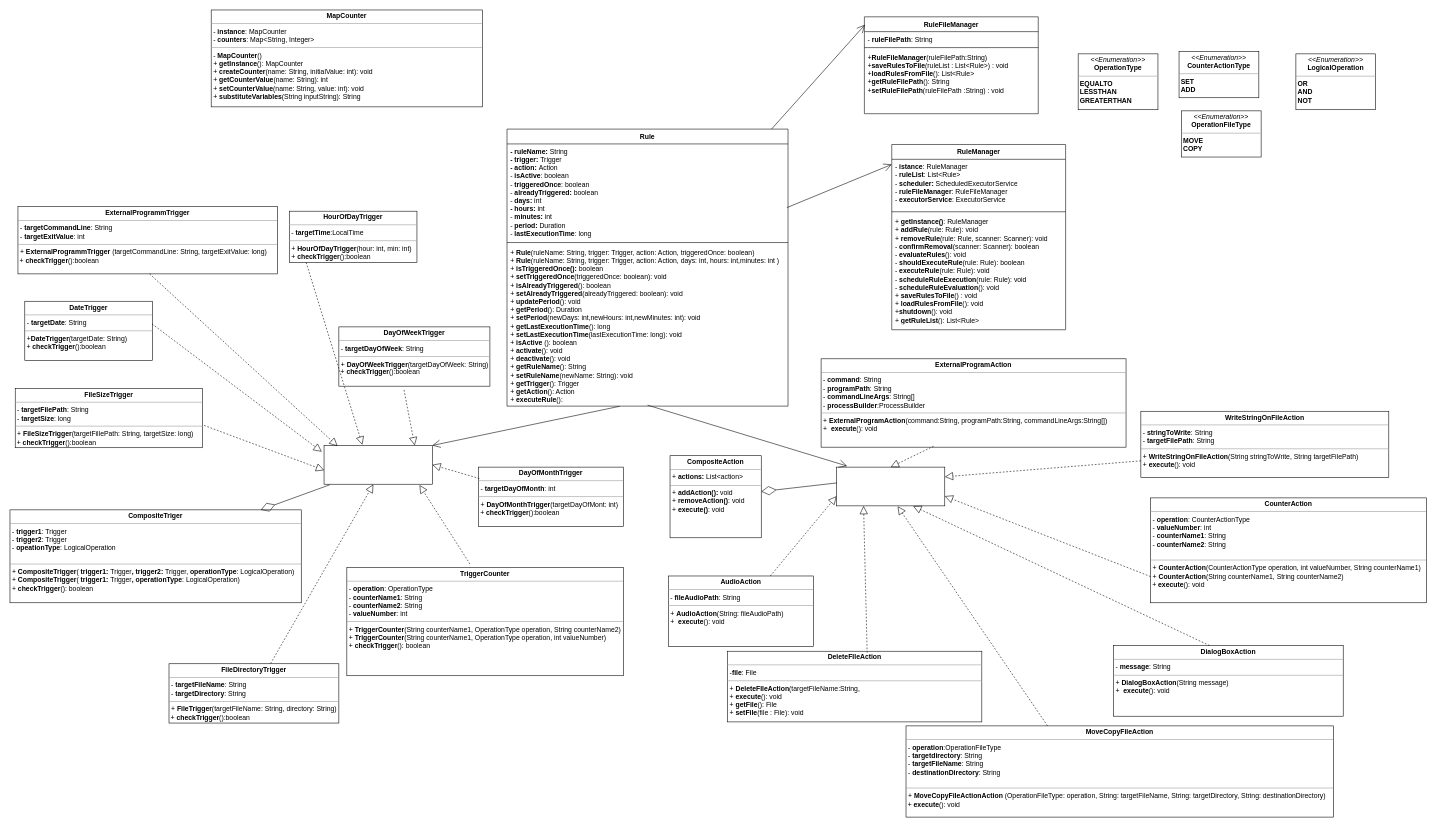
This 1436x827 diagram has some shape labels left out. Each missing label, with the centre of its shape:
"<<Interface>> Action + execute (): Void" goes at point 890,486.
"<<Interface>> Trigger + checkTrigger ():boolean" goes at point 377,464.
